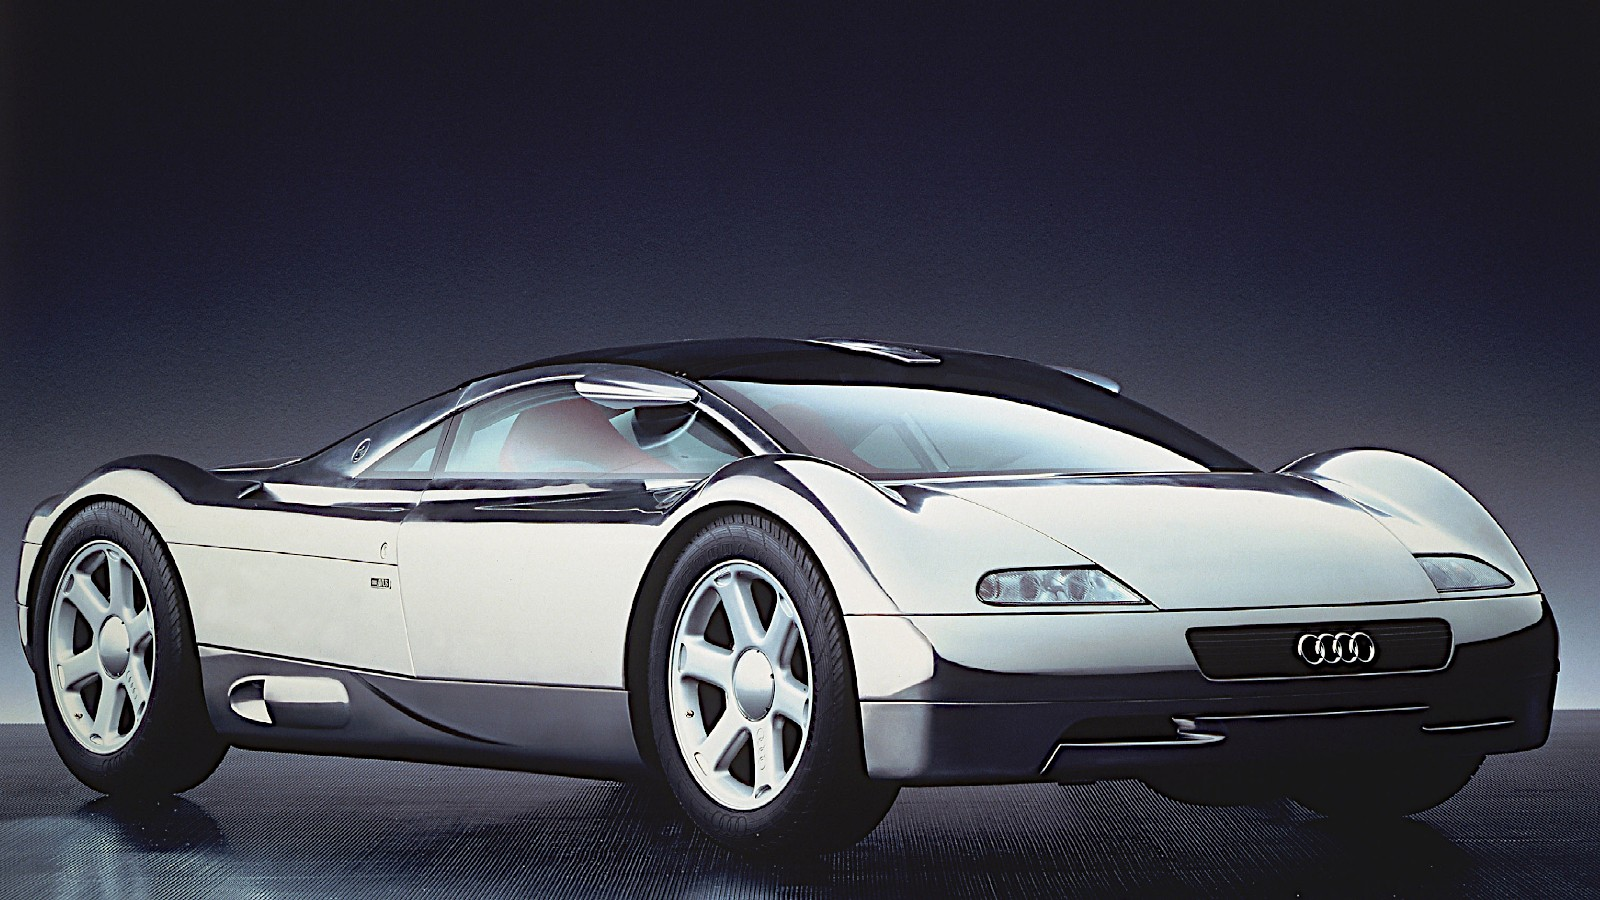headlight: (962, 554, 1151, 605), (1396, 541, 1530, 599)
wheel: (626, 503, 904, 884), (9, 484, 227, 805)
